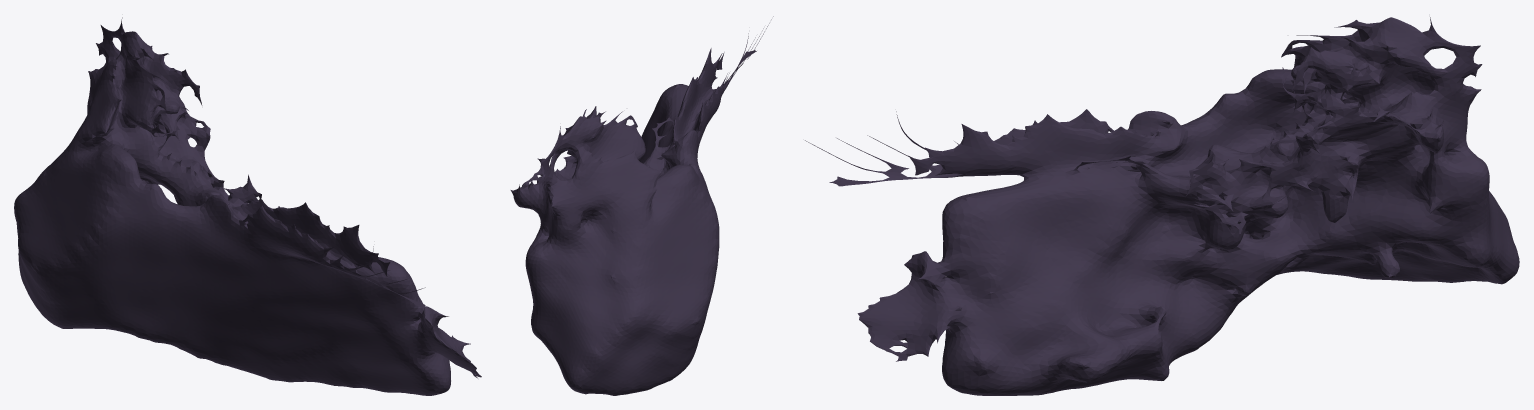
Rendered from Segmentation_Fragment_4.obj.
3 renders of one model, left to right at view 1: azimuth 30°, elevation 25°; view 2: azimuth 150°, elevation 25°; view 3: azimuth 270°, elevation 25°, orthographic. The views are drawn at different scales.
Parts seen in each view (by area): view 1: grp1; view 2: grp1; view 3: grp1.
Boxes of the visible parts, x1,y1,x2,y2 form: grp1: (14, 17, 481, 395); grp1: (510, 16, 773, 395); grp1: (805, 17, 1519, 395).
Size of the model in its own units: 20.88 by 22.09 by 42.64.
